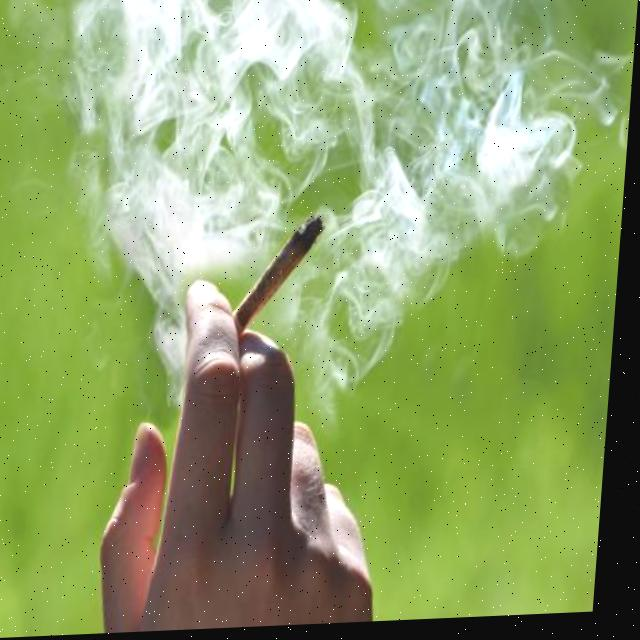cigarette: (234, 215, 333, 340)
